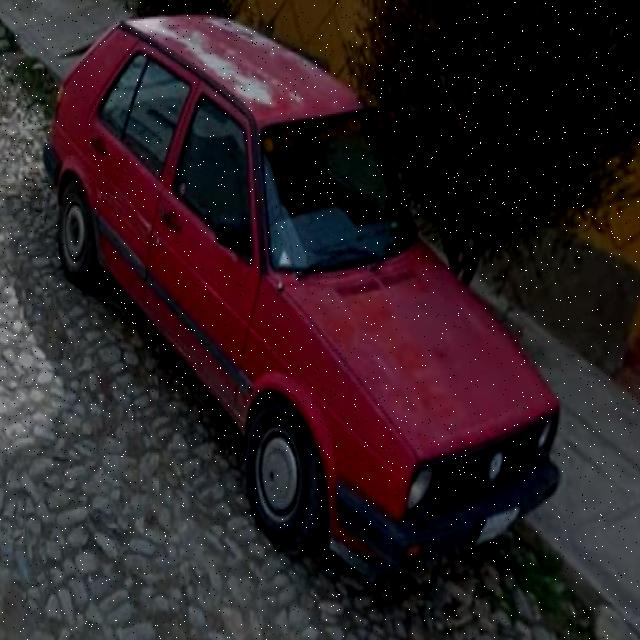car: (47, 21, 562, 564)
